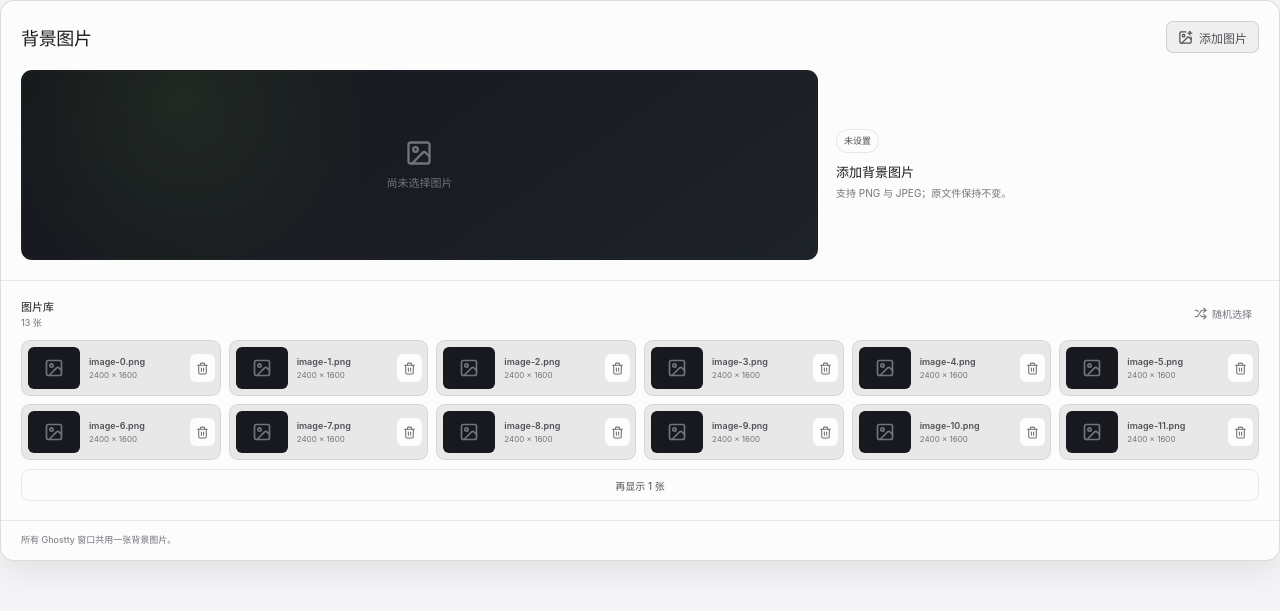
it: background image editor › requests thumbnails in bounded pages instead of loading the whole library
Click the button with class "background-library__more".
click(640, 485)  # box top-left (21, 469), bottom-right (1259, 501)
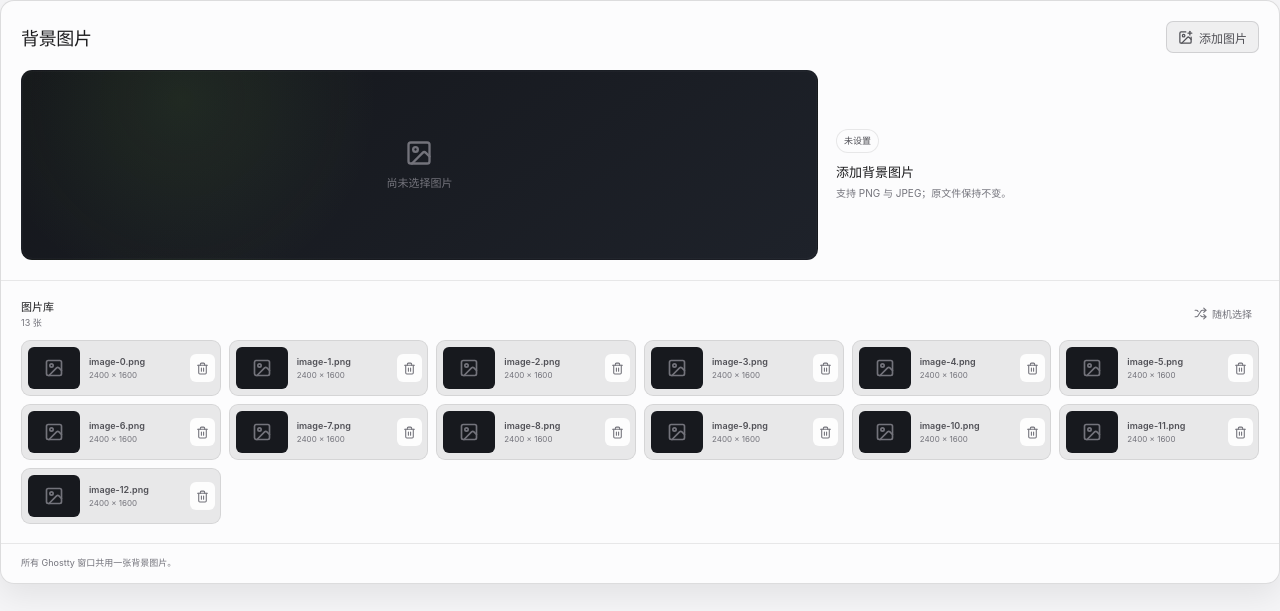
Result: the number of radio buttons with class "background-asset" is 13
